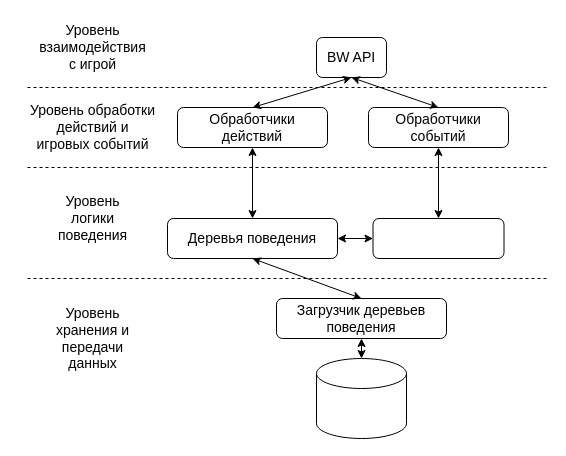
This 566x456 diagram has some shape labels left out. The shapes that lost their labels are listed below. From the top down, each one's centre as x and y in pixels, then its label:
(438,238): Доска объявлений
(361,398): Модели деревьев поведения
